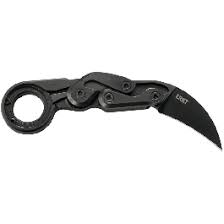knife: (1, 65, 224, 159)
